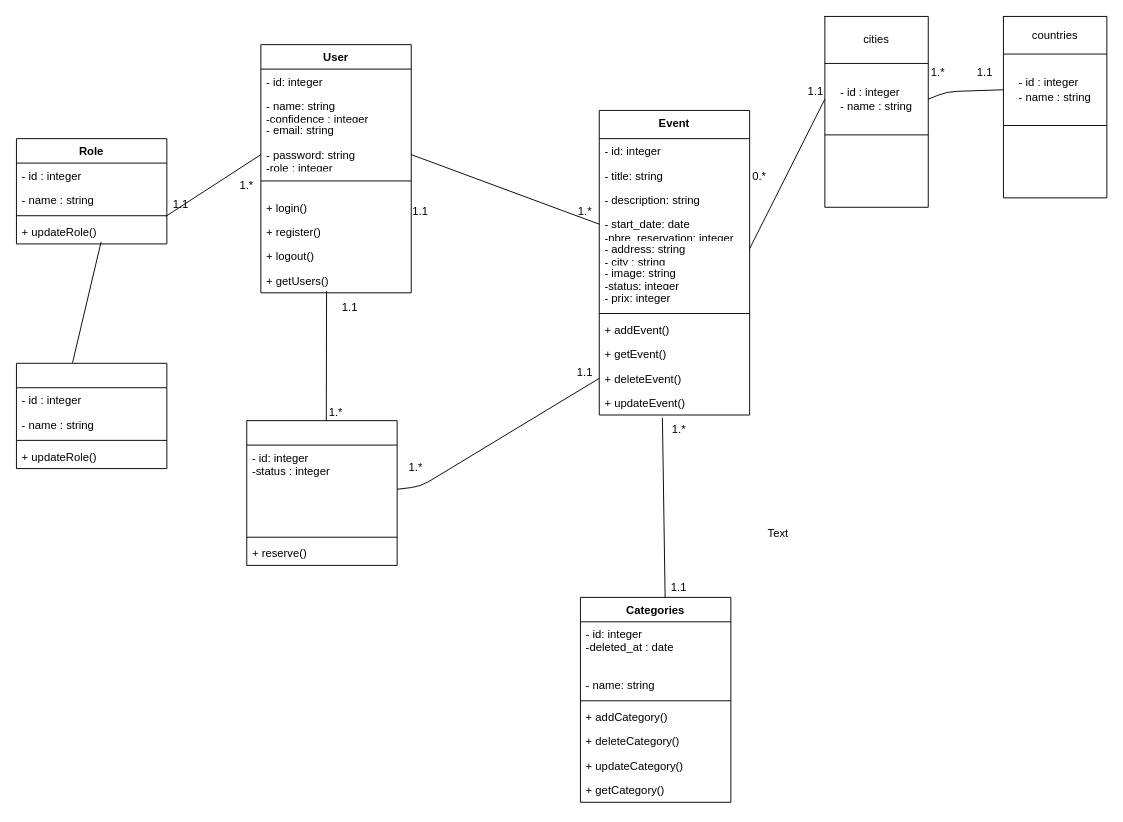
Image size: 1123x822. Some labels were removed from this diagram. Each missing label, with the box of its shape:
permissions: (16, 362, 167, 469)
Reservation: (246, 420, 397, 565)
